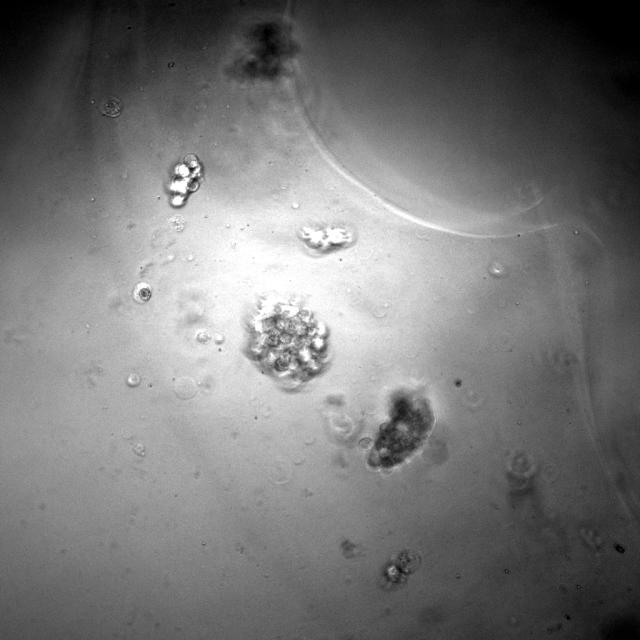organoid: (245, 294, 330, 390), (358, 390, 434, 470), (228, 20, 298, 81), (165, 153, 204, 208), (379, 549, 421, 591), (505, 450, 537, 505), (298, 225, 355, 252), (100, 96, 122, 117), (132, 282, 151, 303), (195, 329, 211, 343), (126, 373, 141, 387), (213, 333, 224, 346), (614, 543, 626, 554)
